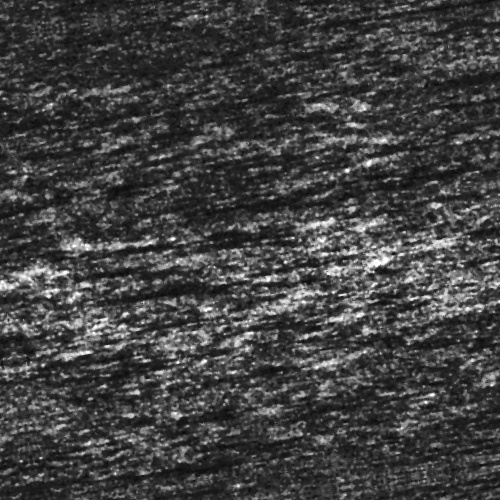object: (261, 364, 344, 375), (319, 226, 360, 237), (487, 196, 500, 205)
shadow: (103, 226, 339, 237), (133, 364, 303, 375), (444, 196, 500, 205), (426, 35, 500, 40)
